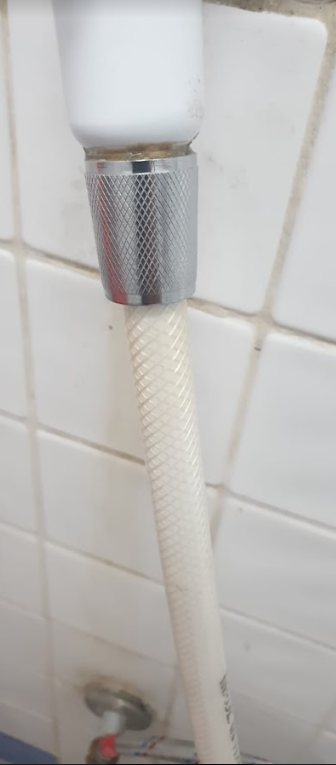Toilet: (33, 5, 294, 759)
